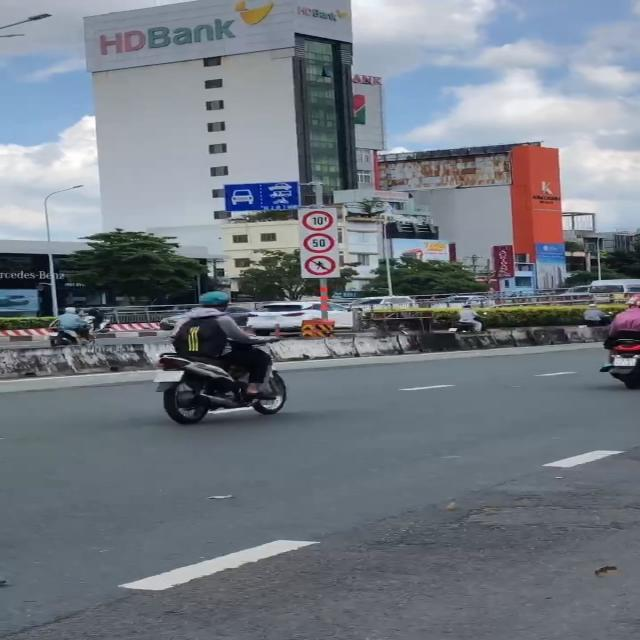Bien bao cam nguoi di bo: (302, 253, 341, 278)
Bien bao toc do toi da cho phep: (302, 231, 337, 254)
